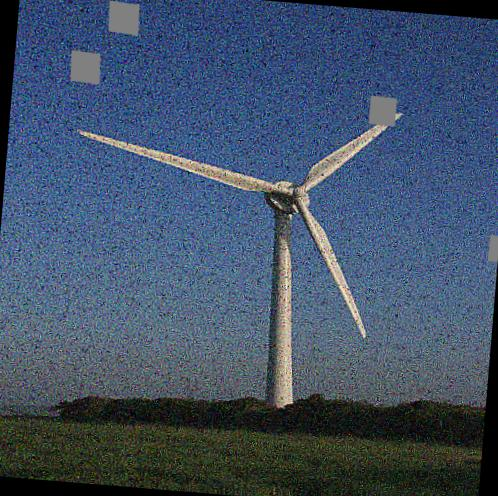wind turbine: (77, 110, 402, 410)
